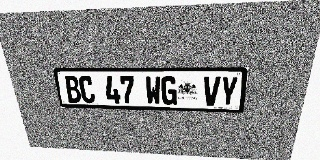4: (104, 76, 121, 104)
7: (119, 76, 136, 104)
B: (64, 76, 82, 103)
C: (78, 76, 96, 103)
G: (161, 76, 177, 105)
V: (202, 76, 221, 106)
W: (145, 76, 161, 105)
Y: (219, 76, 239, 106)
